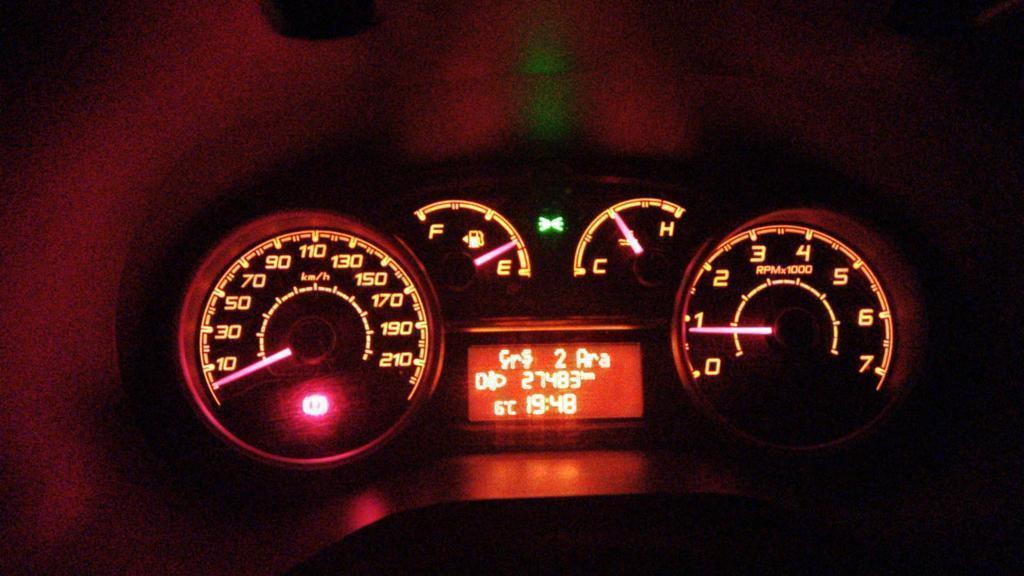0: (475, 370, 487, 391)
1: (524, 394, 531, 417)
2: (553, 347, 567, 369), (521, 370, 534, 389)
3: (569, 369, 581, 389)
4: (550, 393, 562, 414), (545, 370, 556, 389)
6: (494, 400, 504, 416)
7: (534, 369, 545, 389)
8: (563, 393, 577, 414), (557, 370, 569, 389)
9: (531, 392, 545, 415)
X: (521, 348, 534, 369), (576, 347, 587, 368), (499, 349, 510, 369), (588, 352, 599, 368), (510, 353, 521, 369), (600, 352, 610, 368), (508, 399, 517, 416), (586, 371, 595, 381), (545, 396, 549, 412), (581, 369, 586, 380)
odometer: (463, 337, 647, 421)
